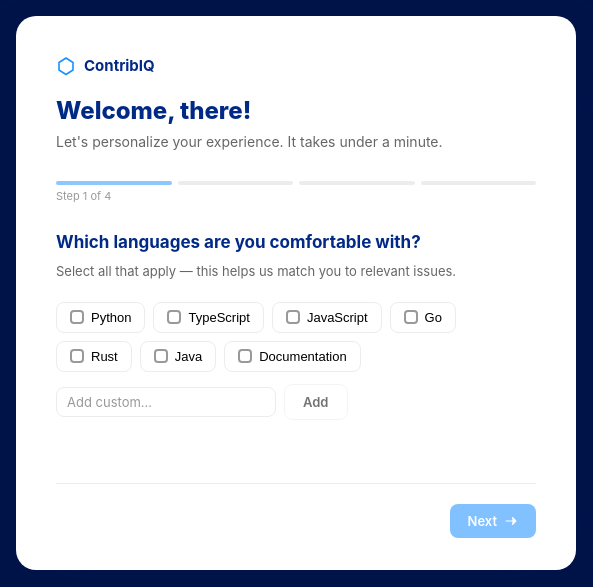
Scenario: OnboardingSetupPage — step 0 initial state › Next button becomes enabled after selecting a language
The width and height of the screenshot is (593, 587).
What coordinates should you click on to do the following:
click the button "Python"
I would click on:
 (101, 317)
Its box is x1=56 y1=302 x2=146 y2=333.
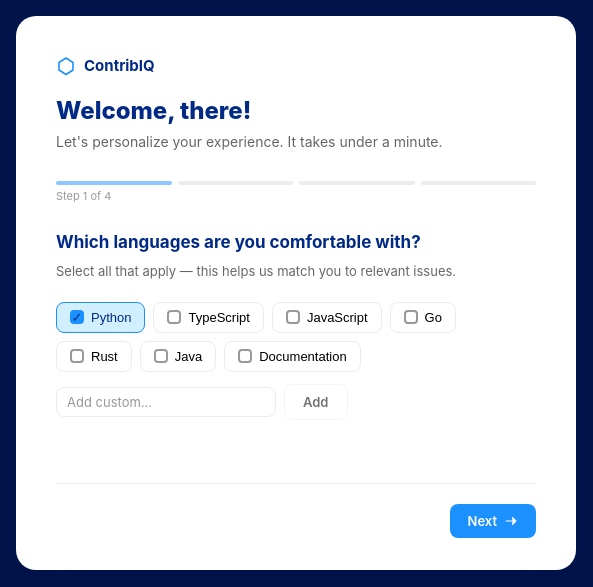
Now the button "Next" is enabled, box x1=450 y1=504 x2=536 y2=538
